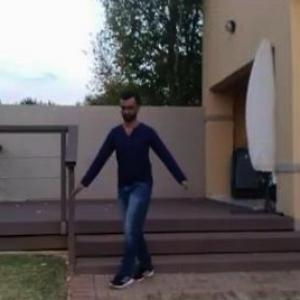land: (83, 98, 201, 294)
